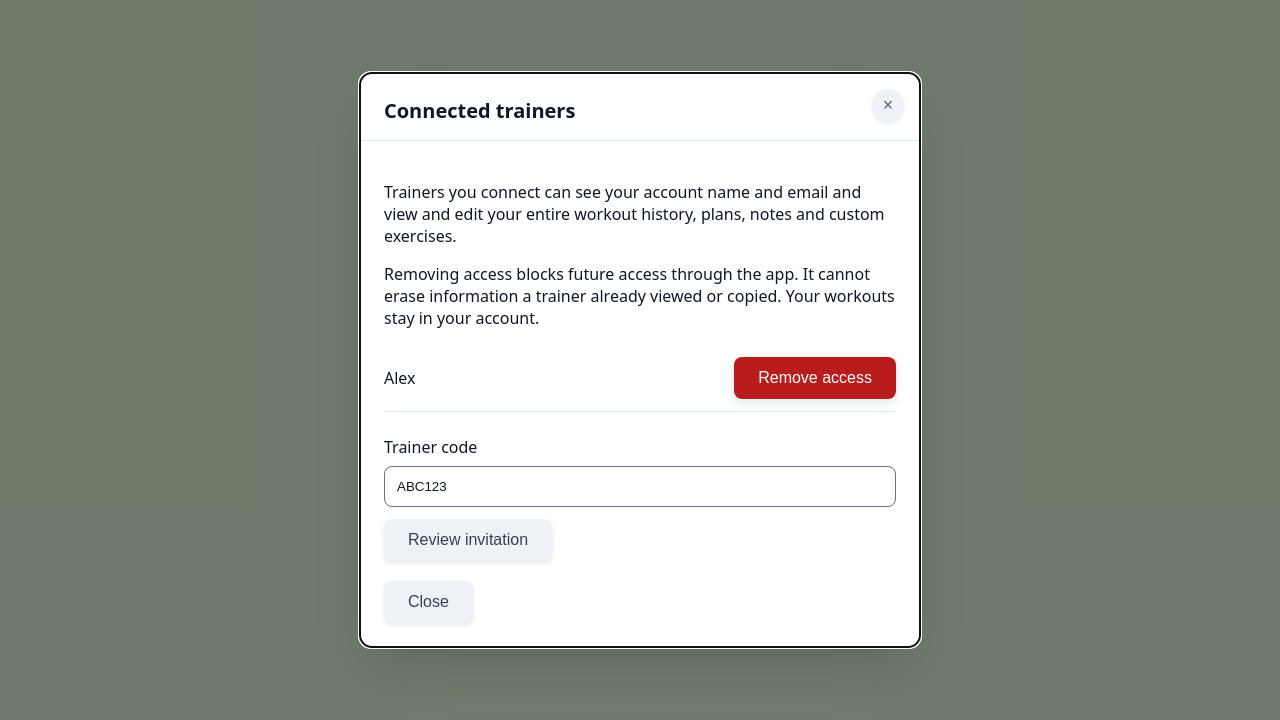
Test: trainer access consent › keeps the connection visible when removal fails
Click the button with aria-label "Remove access: Alex": [815, 378] box [734, 357, 896, 399]
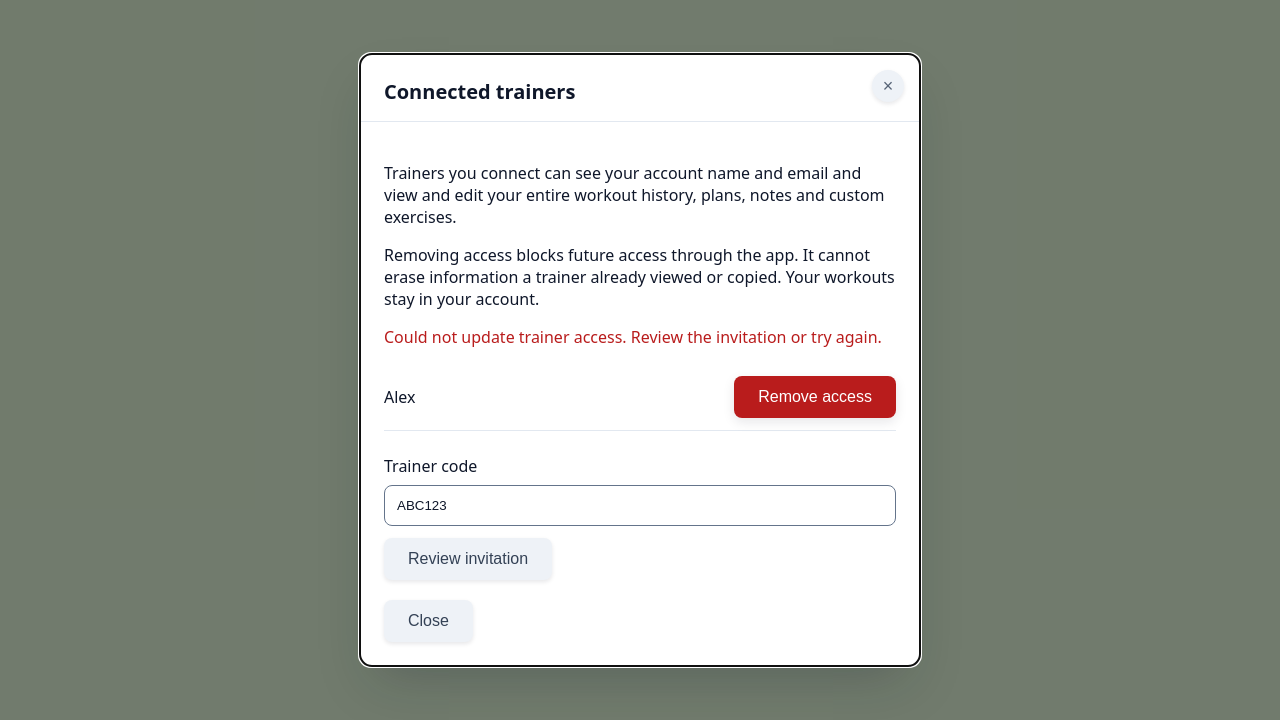
Expected: the text "Alex" is shown, [384, 386, 416, 408]
Result: the message "Could not update trainer access. Review the invitation or try again." is shown at [384, 326, 896, 348]
